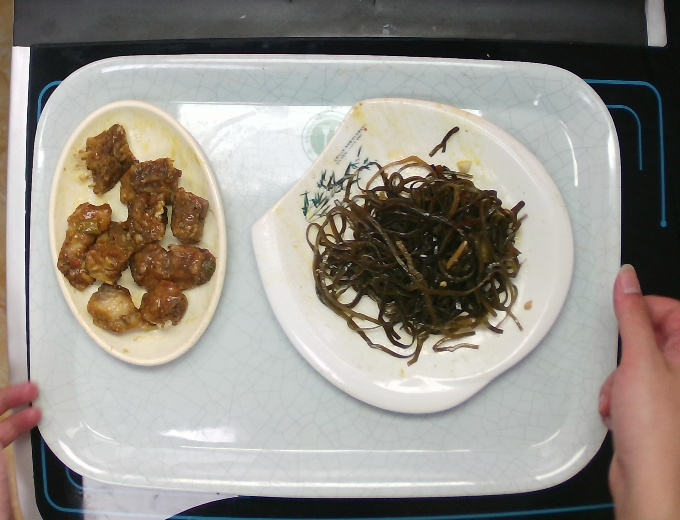JYsf-Mian_Pan: (248, 91, 576, 417)
JYsf-Tuo_Yuan_Wan: (44, 95, 226, 374)
